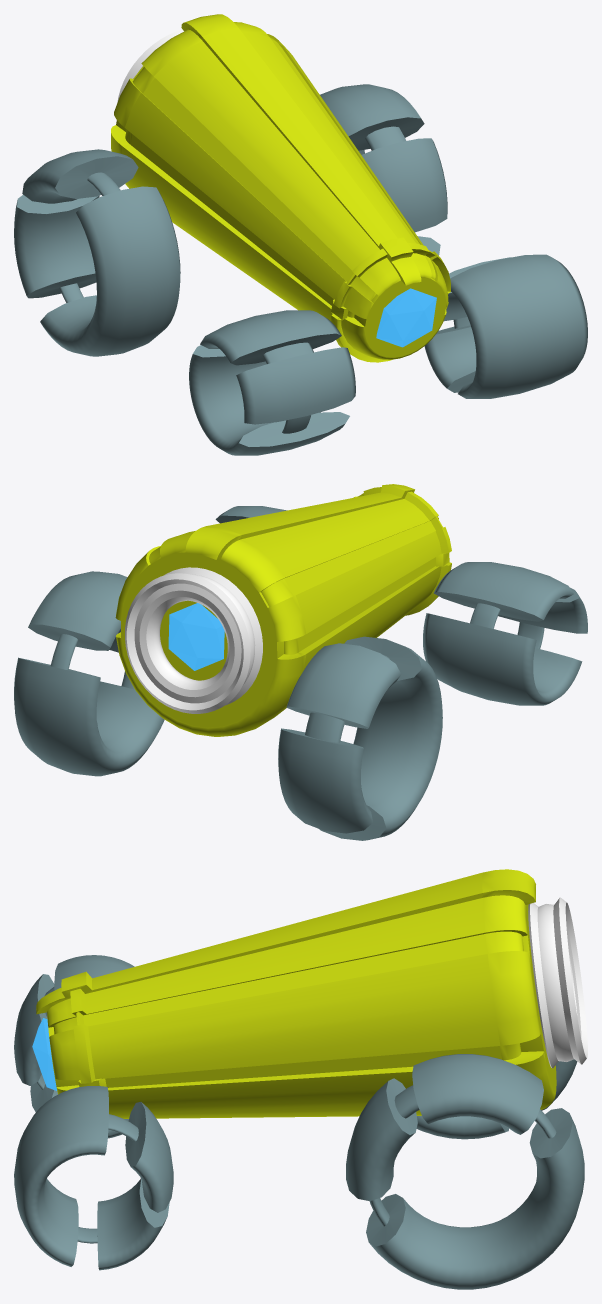
Rendered from SoapCar.glb.
The picture shows the model from 3 angles, top to bottom: view 1: azimuth 30°, elevation 25°; view 2: azimuth 150°, elevation 25°; view 3: azimuth 270°, elevation 25°; orthographic projection. The views are drawn at different scales.
Visible parts, largest first — view 1: Cylinder, wheel.001, wheel fr, wheel fl, wheel, Icosphere; view 2: Cylinder, wheel.001, wheel, wheel fr, Torus.004, Icosphere.001, wheel fl; view 3: Cylinder, wheel, wheel fl, Torus.004, wheel fr, wheel.001, Icosphere.
Boxes of the visible parts, x1,y1,x2,y2 form: Cylinder: (111,14,450,362); wheel.001: (14,149,180,356); wheel fr: (189,310,355,455); wheel fl: (424,254,587,398); wheel: (320,84,447,255); Icosphere: (376,288,436,347); Cylinder: (115,484,451,736); wheel.001: (278,636,442,840); wheel: (14,571,164,776); wheel fr: (423,562,587,705); Torus.004: (125,567,262,713); Icosphere.001: (168,603,224,670); wheel fl: (215,506,287,523); Cylinder: (36,869,556,1118); wheel: (346,1054,584,1289); wheel fl: (14,1086,173,1270); Torus.004: (528,897,587,1068); wheel fr: (14,955,134,1138); wheel.001: (416,1059,577,1139); Icosphere: (32,1018,57,1090).
Size of the model in its own units: 4.88 by 3.76 by 6.
